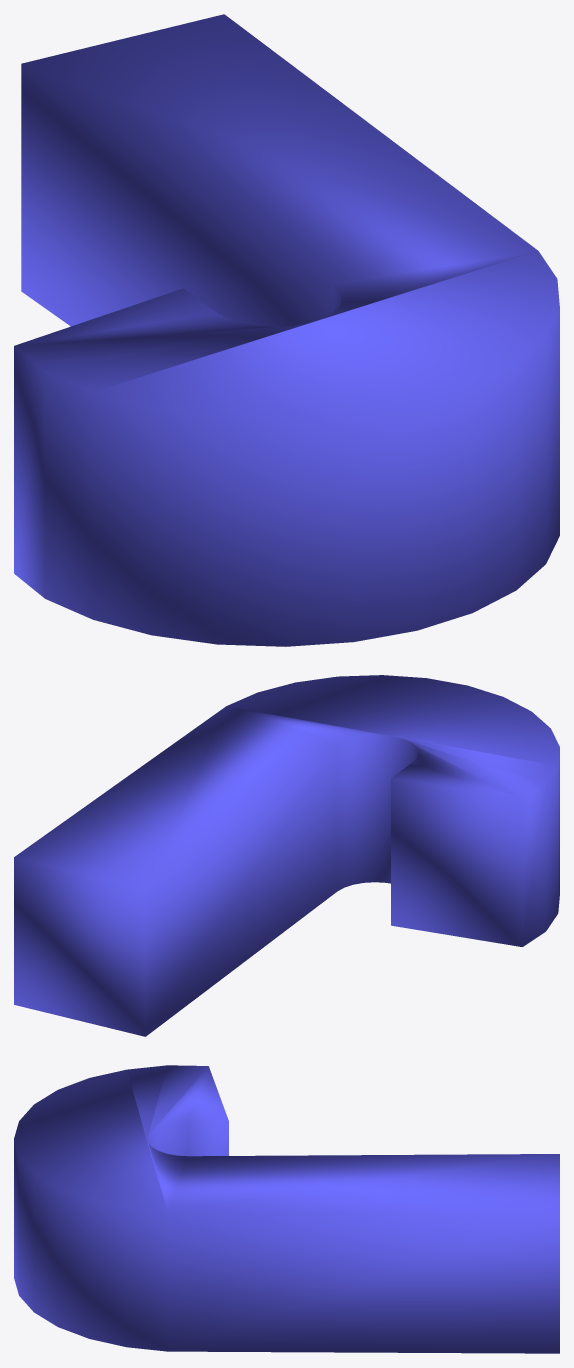
3 views of the same model, one above another, from view 1: azimuth 30°, elevation 25°; view 2: azimuth 150°, elevation 25°; view 3: azimuth 270°, elevation 25° (orthographic). The views are drawn at different scales.
Parts seen in each view (by area): view 1: J1; view 2: J1; view 3: J1.
Part boxes in pixels (bbox=[...]): J1: bbox=[14, 14, 559, 646]; J1: bbox=[14, 675, 559, 1036]; J1: bbox=[14, 1065, 559, 1353].
Size of the model in its own units: 13.57 by 5.91 by 21.
